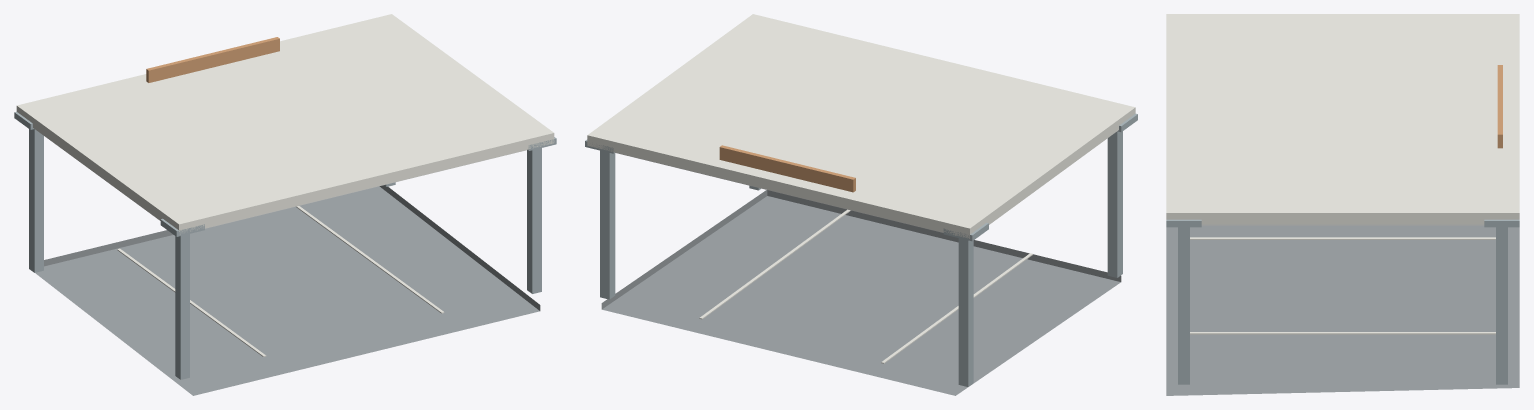
3 views of the same model, side by side, from view 1: azimuth 30°, elevation 25°; view 2: azimuth 150°, elevation 25°; view 3: azimuth 270°, elevation 25° (orthographic). The views are drawn at different scales.
Parts seen in each view (by area): view 1: VIS_Canopy_Roof_white, VIS_Ambulance_Ramp_road, VIS_Canopy_Columns_steel, VIS_KALDRAN_Receiving_Sign_Base_signal, VIS_Ambulance_Bay_Markings_white, VIS_Column_Capital_steel; view 2: VIS_Canopy_Roof_white, VIS_Ambulance_Ramp_road, VIS_Canopy_Columns_steel, VIS_KALDRAN_Receiving_Sign_Base_signal, VIS_Ambulance_Bay_Markings_white, VIS_Column_Capital_steel; view 3: VIS_Canopy_Roof_white, VIS_Ambulance_Ramp_road, VIS_Canopy_Columns_steel, VIS_Ambulance_Bay_Markings_white, VIS_Column_Capital_steel, VIS_Canopy_Soffit_ceiling, VIS_KALDRAN_Receiving_Sign_Base_signal.
Boxes of the visible parts, x1,y1,x2,y2 form: VIS_Canopy_Roof_white: [16, 14, 554, 234]; VIS_Ambulance_Ramp_road: [35, 185, 540, 395]; VIS_Canopy_Columns_steel: [29, 129, 541, 379]; VIS_KALDRAN_Receiving_Sign_Base_signal: [146, 37, 279, 82]; VIS_Ambulance_Bay_Markings_white: [117, 206, 444, 356]; VIS_Column_Capital_steel: [14, 111, 556, 236]; VIS_Canopy_Roof_white: [587, 14, 1135, 238]; VIS_Ambulance_Ramp_road: [601, 190, 1121, 395]; VIS_Canopy_Columns_steel: [600, 131, 1122, 386]; VIS_KALDRAN_Receiving_Sign_Base_signal: [719, 145, 855, 192]; VIS_Ambulance_Bay_Markings_white: [699, 209, 1032, 363]; VIS_Column_Capital_steel: [585, 113, 1137, 241]; VIS_Canopy_Roof_white: [1166, 14, 1519, 224]; VIS_Ambulance_Ramp_road: [1166, 225, 1519, 395]; VIS_Canopy_Columns_steel: [1178, 227, 1507, 384]; VIS_Ambulance_Bay_Markings_white: [1190, 237, 1495, 334]; VIS_Column_Capital_steel: [1166, 219, 1519, 227]; VIS_Canopy_Soffit_ceiling: [1201, 224, 1484, 225]; VIS_KALDRAN_Receiving_Sign_Base_signal: [1497, 65, 1502, 148].
Size of the model in its own units: 8.1 by 3.82 by 6.
